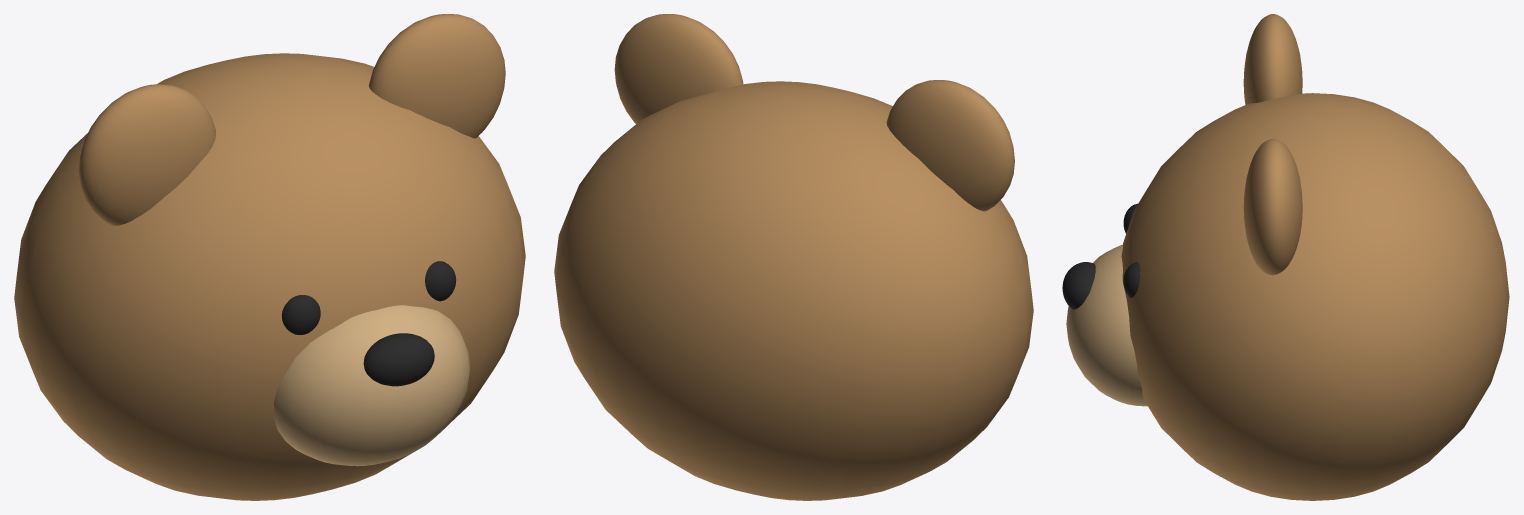
File: bear_face.glb
3 renders of one model, left to right at view 1: azimuth 30°, elevation 25°; view 2: azimuth 150°, elevation 25°; view 3: azimuth 270°, elevation 25°, orthographic. The views are drawn at different scales.
Visible parts, largest first — view 1: Head, Muzzle, Left_Ear_Outer, Right_Ear_Outer, Nose, Left_Eye_Pupil, Right_Eye_Pupil; view 2: Head, Left_Ear_Outer, Right_Ear_Outer; view 3: Head, Muzzle, Right_Ear_Outer, Left_Ear_Outer, Nose.
Part boxes in pixels (left/top/right/bottom): Head: left=14, top=53, right=525, bottom=500; Muzzle: left=273, top=305, right=470, bottom=466; Left_Ear_Outer: left=78, top=84, right=215, bottom=225; Right_Ear_Outer: left=369, top=14, right=505, bottom=138; Nose: left=363, top=333, right=434, bottom=386; Left_Eye_Pupil: left=281, top=295, right=320, bottom=334; Right_Eye_Pupil: left=425, top=261, right=456, bottom=301; Head: left=554, top=81, right=1033, bottom=500; Left_Ear_Outer: left=886, top=80, right=1014, bottom=211; Right_Ear_Outer: left=614, top=14, right=743, bottom=123; Head: left=1121, top=93, right=1509, bottom=500; Muzzle: left=1066, top=245, right=1147, bottom=406; Right_Ear_Outer: left=1243, top=139, right=1302, bottom=275; Left_Ear_Outer: left=1243, top=14, right=1302, bottom=104; Nose: left=1062, top=262, right=1095, bottom=309.
Bounding box in the file's own units: 2.4 × 2.2 × 2.27.
